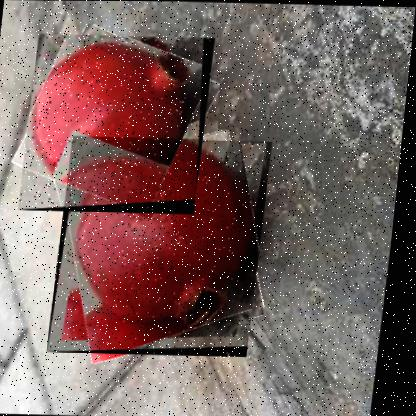pomegranate: (54, 135, 276, 356), (22, 32, 216, 213)
